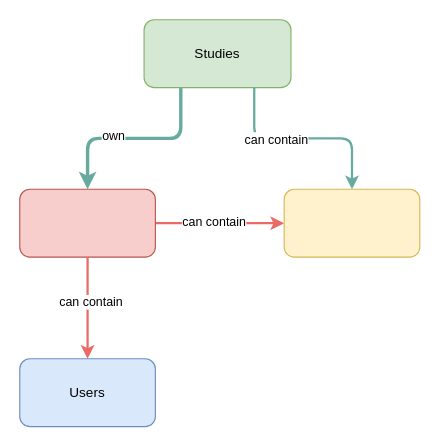
Image size: 440x446. Some labels were removed from this diagram. The shapes that lost their labels are listed below. From the top down, each one's centre as x and y in pixels, then its label:
At [87,222]: "Projects".
At [351,222]: "[Information] Assets".
